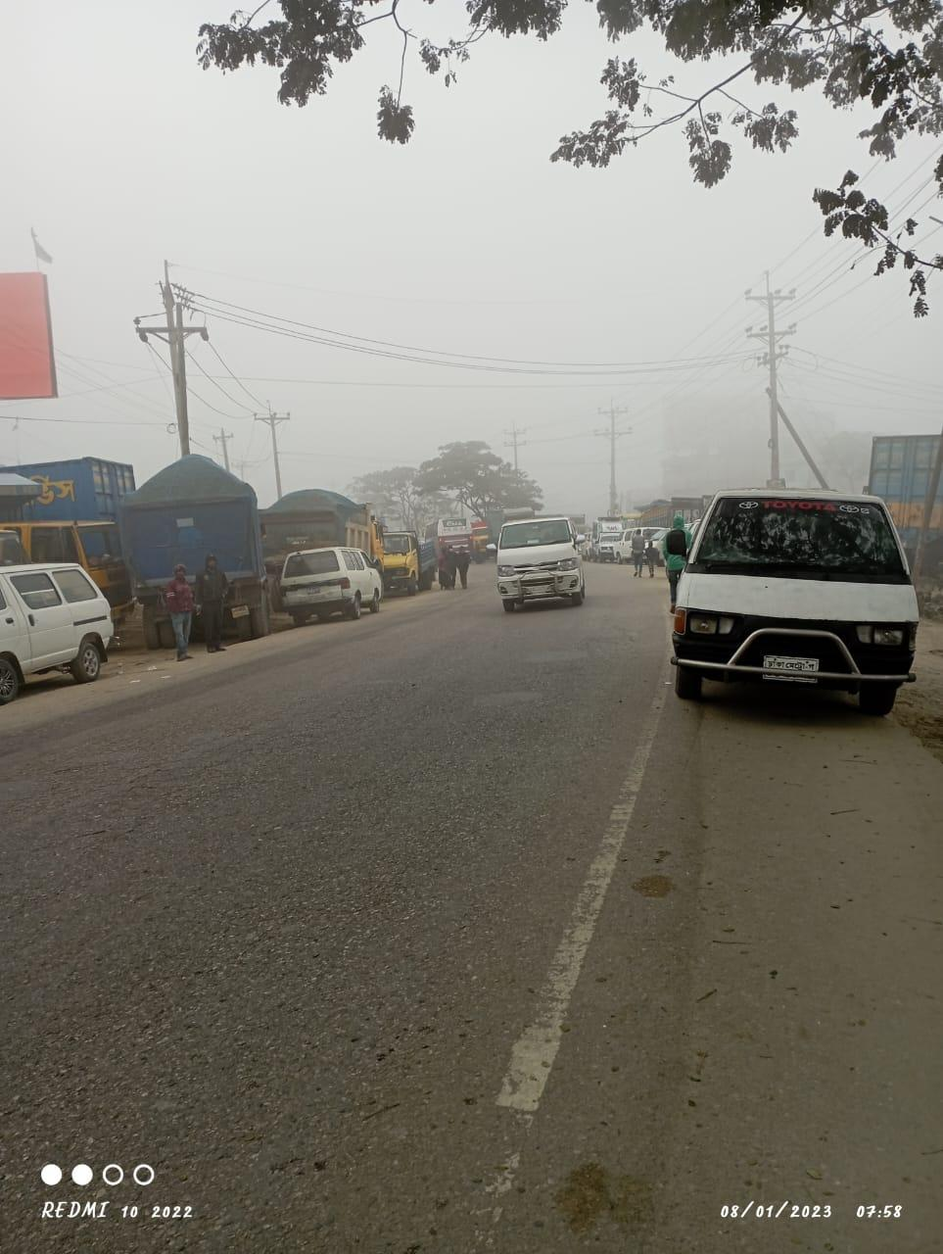Bus: (421, 510, 479, 567)
Car: (652, 487, 943, 729), (1, 553, 114, 689), (486, 506, 601, 619), (279, 540, 396, 626)
Truck: (115, 454, 268, 648)
